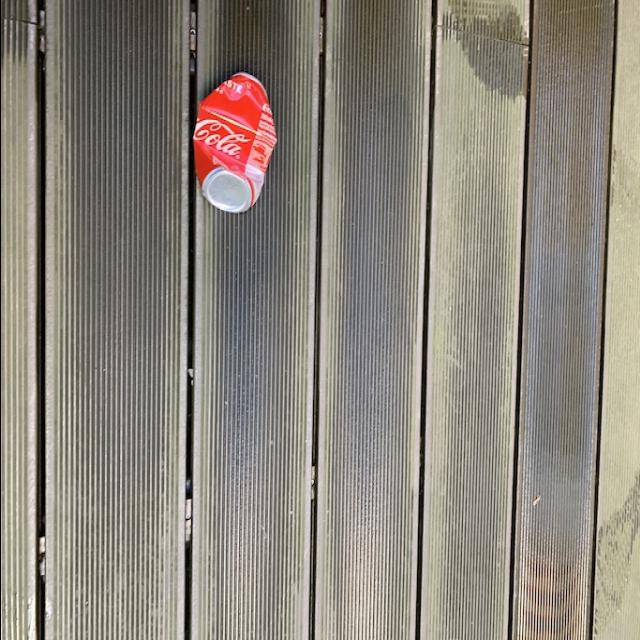litter: (194, 68, 276, 218)
